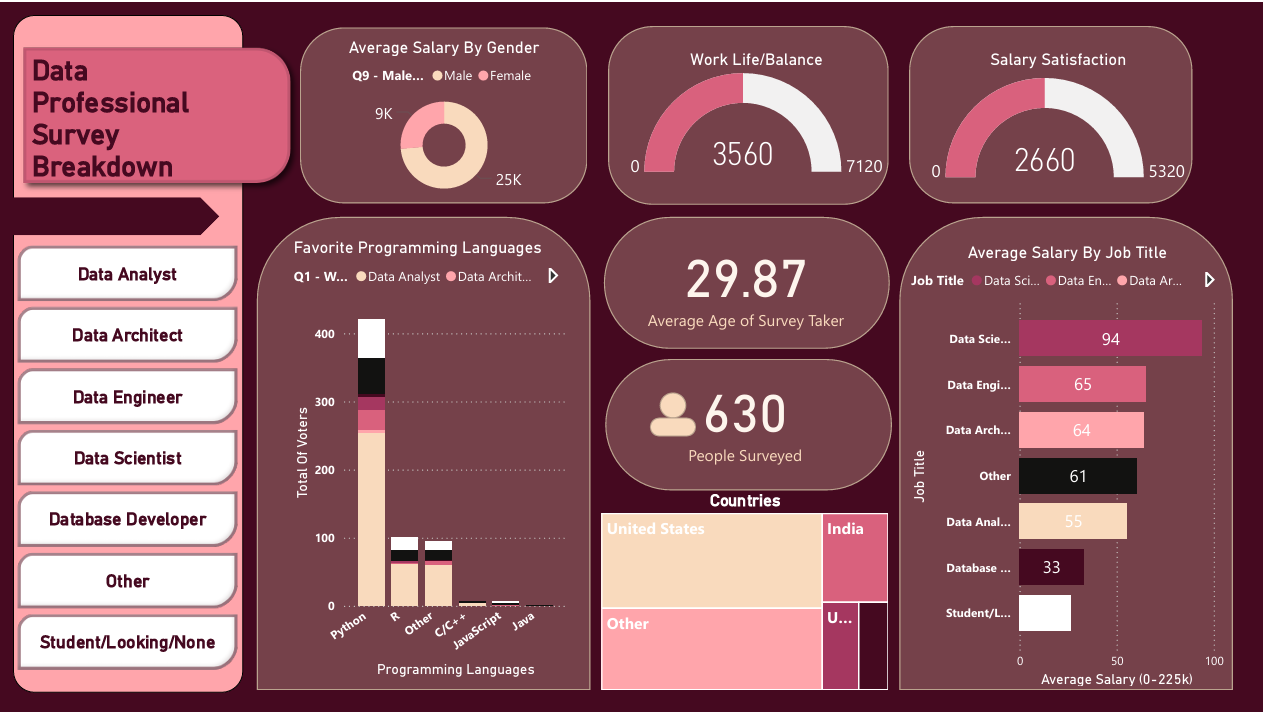

The page's visual inventory and layout, read from the dashboard file:
{"tool":"powerbi","page":{"name":"Page 1","canvas":[1280,720],"ordinal":0},"visuals":[{"type":"shape","box":[622.5,23.9,287.3,183.1],"z":0},{"type":"textbox","box":[13,13,235.8,695.1],"z":1000},{"type":"card","fields":{"Values":["Count(Data Professional Survey.Unique ID)"]},"box":[670,351.7,186.7,148.3],"z":2000},{"type":"card","fields":{"Values":["Avg(Data Professional Survey.Q10 - Current Age)"]},"box":[653.6,212.4,219.6,148.5],"z":3000},{"type":"shape","box":[263.3,220,341.7,485],"z":4000},{"type":"shape","box":[618.6,219.6,292.8,135.1],"z":4500},{"type":"shape","box":[620,365.5,293.6,134.5],"z":4750},{"type":"columnChart","title":"Favorite Programming Languages","fields":{"Category":["Data Professional Survey.Q5 - Favorite Programming Language.1"],"Y":["CountNonNull(Data Professional Survey.Unique ID)"],"Series":["Data Professional Survey.Q1 - Which Title Best Fits your Current Role?.1"]},"box":[295,241.7,290,455],"z":5000},{"type":"shape","box":[921.7,220,341.7,485],"z":5500},{"type":"treemap","title":"Countries ","fields":{"Group":["Data Professional Survey.Q11 - Which Country do you live in?.1"],"Values":["CountNonNull(Data Professional Survey.Q11 - Which Country do you live in?.1)"]},"box":[611.7,500,303.3,210],"z":6000},{"type":"gauge","title":"Work Life/Balance","fields":{"Y":["Sum(Data Professional Survey.Q6 - How Happy are you in your Current Position with the following? (Work/Life Balance))"]},"box":[618.3,47.9,312.7,135.2],"z":7000},{"type":"shape","box":[307,25.4,294.4,180.3],"z":8000},{"type":"donutChart","title":"Average Salary By Gender","fields":{"Category":["Data Professional Survey.Q9 - Male/Female?"],"Y":["Sum(Data Professional Survey.Average Salary)"]},"box":[283.1,35.2,343.7,171.8],"z":9000},{"type":"advancedSlicerVisual","title":" Job Role ","fields":{"Values":["Data Professional Survey.Q1 - Which Title Best Fits your Current Role?.1"]},"box":[12.9,244.3,235.7,450],"z":10000},{"type":"shape","box":[13.3,35,295,160],"z":11000},{"type":"textbox","box":[26.7,46.7,325,186.7],"z":13000},{"type":"shape","box":[931,23.9,290.1,181.7],"z":14000},{"type":"gauge","title":"Salary Satisfaction","fields":{"Y":["Sum(Data Professional Survey.Q6 - How Happy are you in your Current Position with the following? (Salary))"]},"box":[928.2,47.9,311.3,140.8],"z":15000},{"type":"barChart","title":"Average Salary By Job Title","fields":{"Category":["Data Professional Survey.Q1 - Which Title Best Fits your Current Role?.1"],"Y":["Avg(Data Professional Survey.Average Salary)"],"Series":["Data Professional Survey.Q1 - Which Title Best Fits your Current Role?.1"]},"box":[928.3,245,330,460],"z":17000},{"type":"shape","box":[675.7,399.3,27.1,26.4],"z":22001},{"type":"shape","box":[665.7,425.7,47.1,19.3],"z":27002},{"type":"shape","box":[0,200,224.3,38.6],"z":27003}]}

Visuals, with their boxes in screenshot pixels (x1, y1, x2, y2), scaled from the page's 1280x720 canvas onto the 1263x712 screenshot:
shape: detection(614, 24, 898, 205)
textbox: detection(13, 13, 245, 700)
card - Count(Data Professional Survey.Unique ID): detection(661, 348, 845, 494)
card - Avg(Data Professional Survey.Q10 - Current Age): detection(645, 210, 862, 357)
shape: detection(260, 218, 597, 697)
shape: detection(610, 217, 899, 351)
shape: detection(612, 361, 901, 494)
"Favorite Programming Languages" columnChart: detection(291, 239, 577, 689)
shape: detection(909, 218, 1247, 697)
"Countries " treemap: detection(604, 494, 903, 702)
"Work Life/Balance" gauge: detection(610, 47, 919, 181)
shape: detection(303, 25, 593, 203)
"Average Salary By Gender" donutChart: detection(279, 35, 618, 205)
" Job Role " advancedSlicerVisual: detection(13, 242, 245, 687)
shape: detection(13, 35, 304, 193)
textbox: detection(26, 46, 347, 231)
shape: detection(919, 24, 1205, 203)
"Salary Satisfaction" gauge: detection(916, 47, 1223, 187)
"Average Salary By Job Title" barChart: detection(916, 242, 1242, 697)
shape: detection(667, 395, 693, 421)
shape: detection(657, 421, 703, 440)
shape: detection(0, 198, 221, 236)
